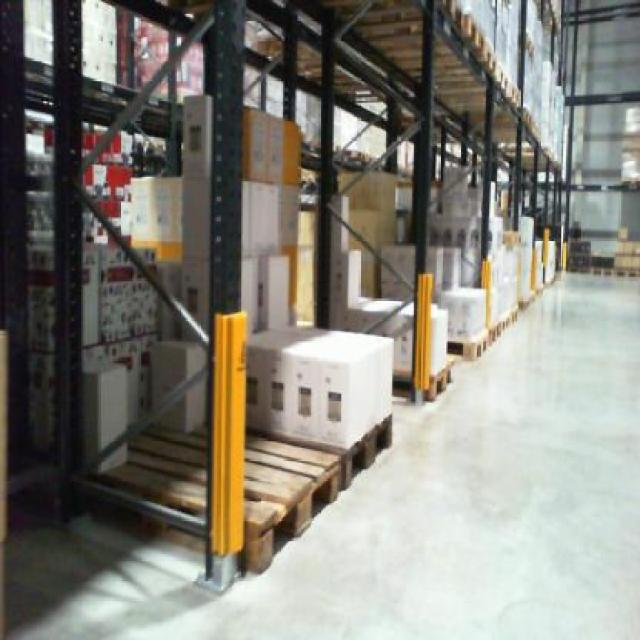pallet: (80, 396, 343, 579), (368, 0, 494, 74), (296, 410, 407, 492), (419, 62, 520, 118), (410, 350, 470, 410), (441, 320, 494, 368)
